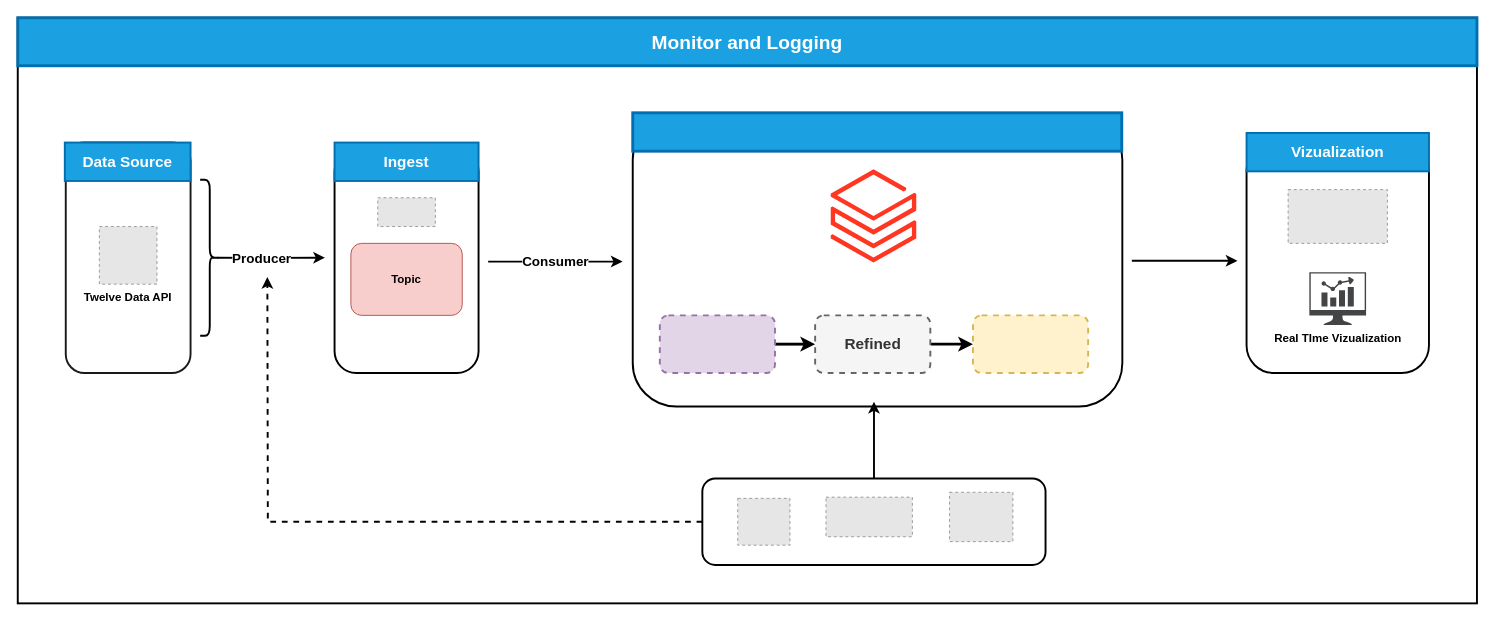
Some shapes in this 1495 by 621 pixel diagram are drawn without their labels. Grey dashed boxes stand in for pictures. The centre of each missing label's shape, as x and y in pixels:
Curated: point (1030, 343)
Data Lake: point (877, 131)
Databricks: point (873, 216)
Raw: point (716, 343)
